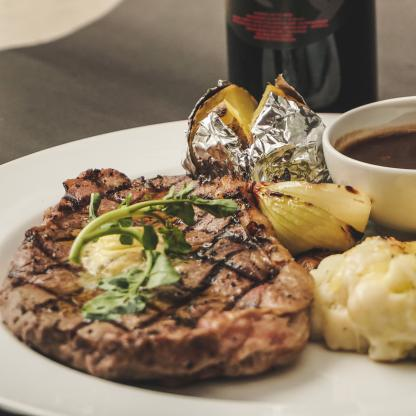Carne: (6, 162, 314, 380)
